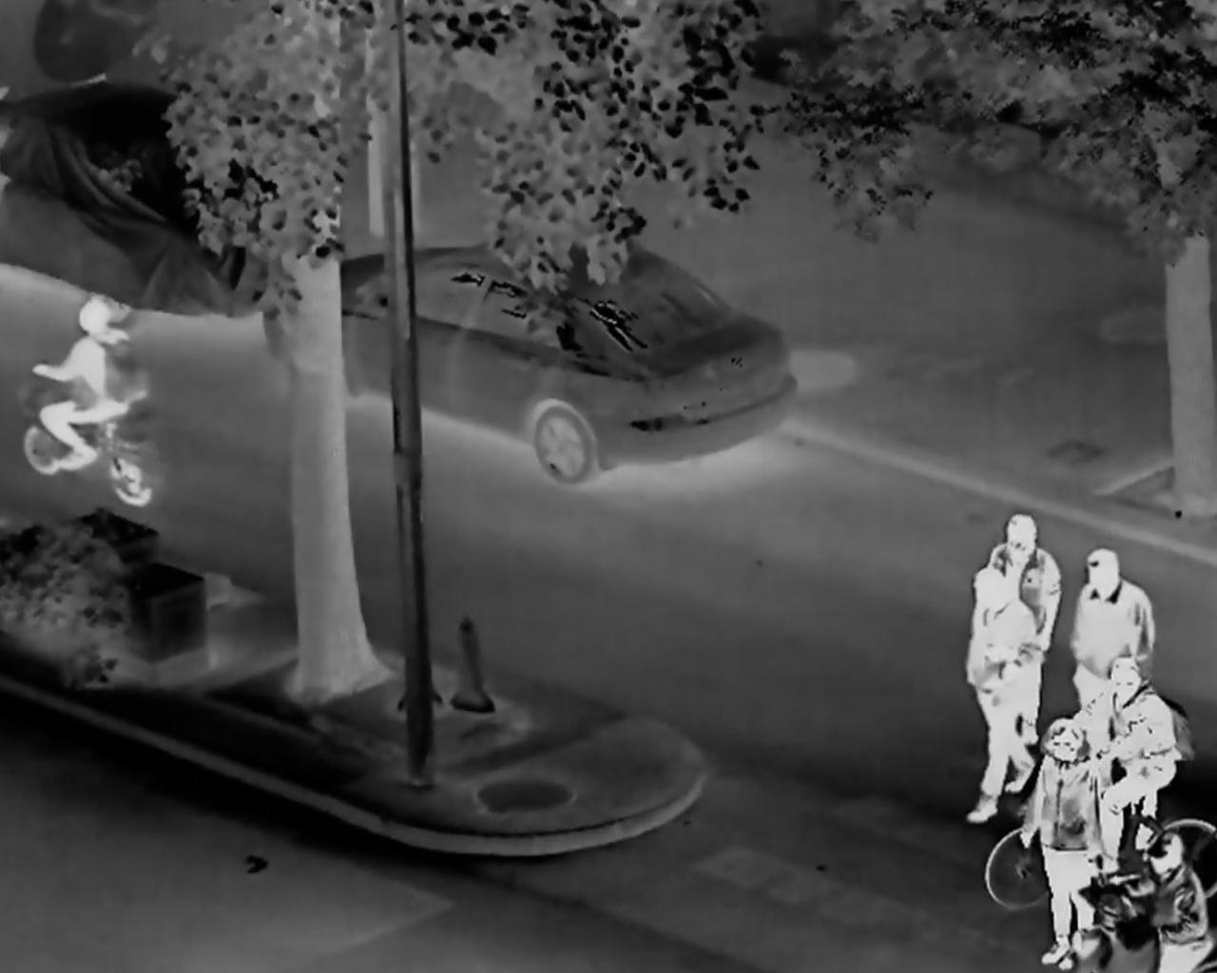person: (1062, 658, 1183, 851), (1019, 714, 1108, 968), (1069, 544, 1154, 760), (986, 515, 1061, 744), (37, 300, 135, 472), (967, 571, 1030, 825), (1121, 829, 1208, 971)
